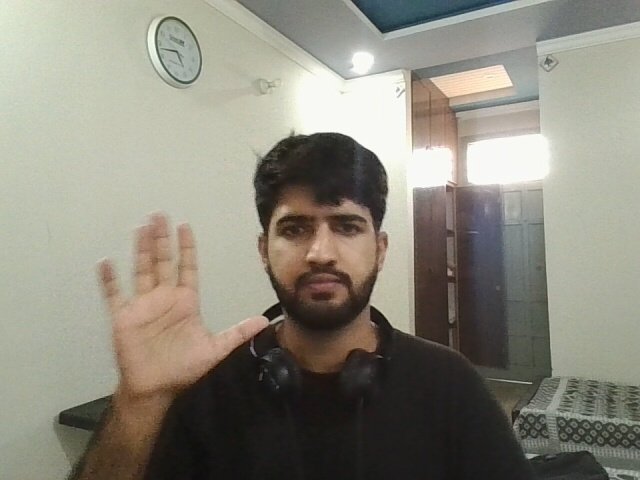Hello: (82, 207, 269, 395)
